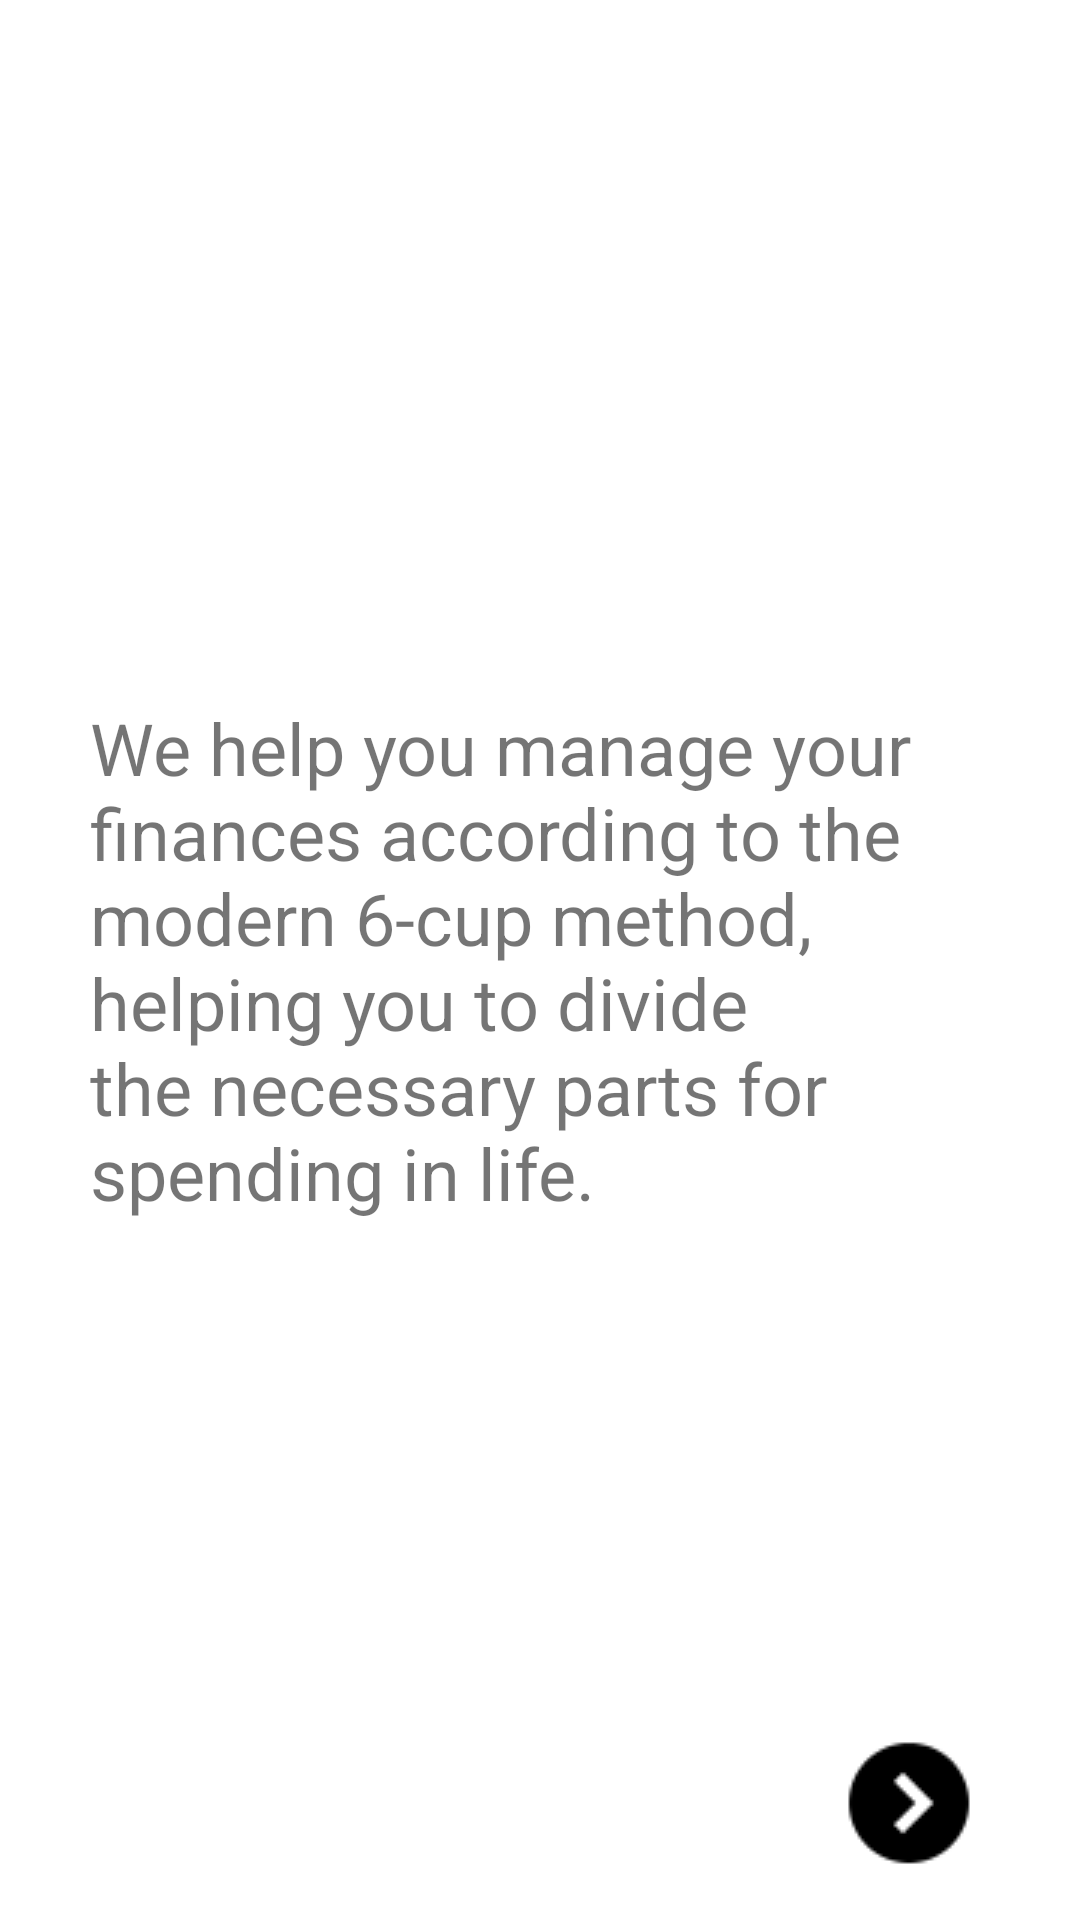

Icons on this 1080×1920 Android screen, each with the point to tap as point (x, y):
Next: point (909, 1803)
